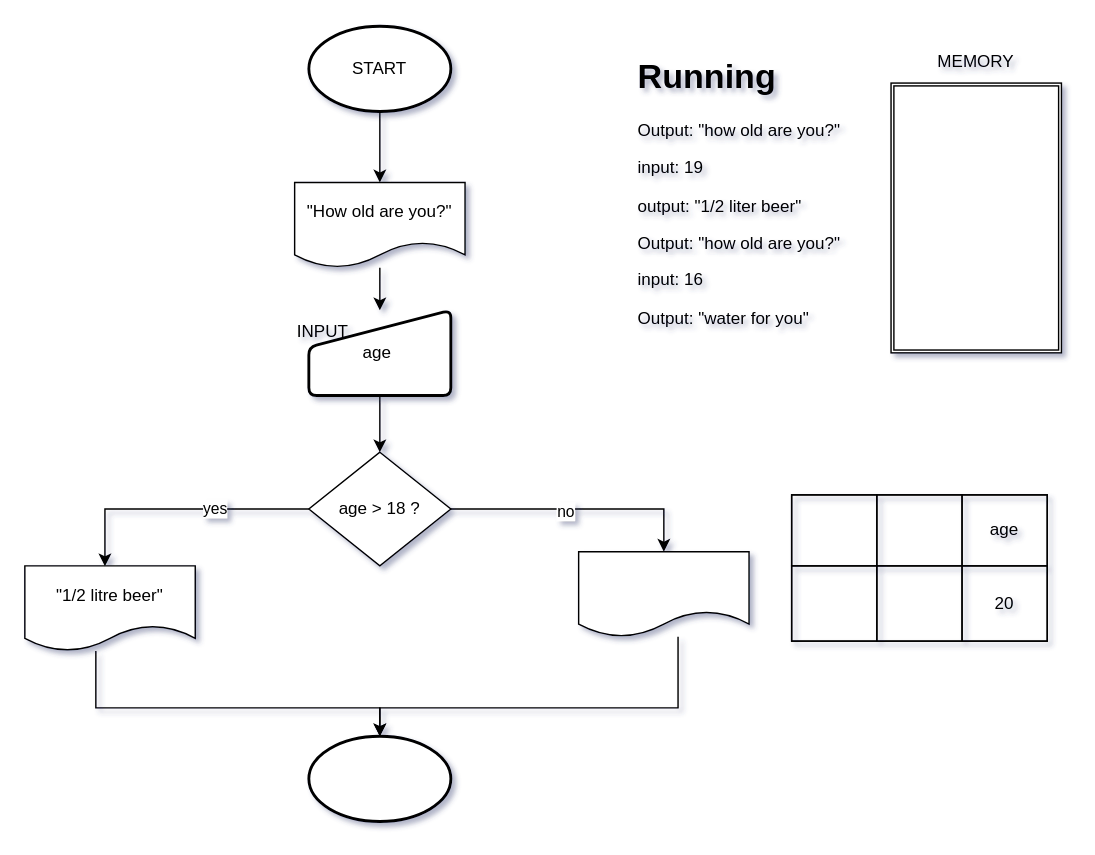
Image size: 1095x855. Some labels were removed from this diagram. The shapes that lost their labels are listed below. From the top down, each one's centre as x and y in pixels, then its label:
[975,217]: age 19 16
[663,593]: "water for you"
[379,778]: STOP
